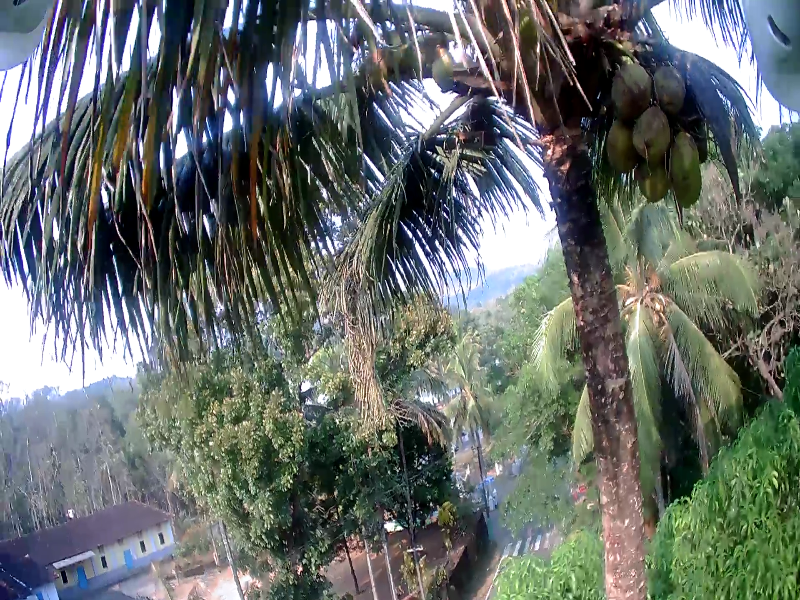coconut: (668, 133, 707, 208), (609, 60, 647, 106), (634, 106, 665, 158), (636, 156, 662, 211), (434, 53, 468, 93), (602, 119, 632, 164), (650, 62, 676, 107)
